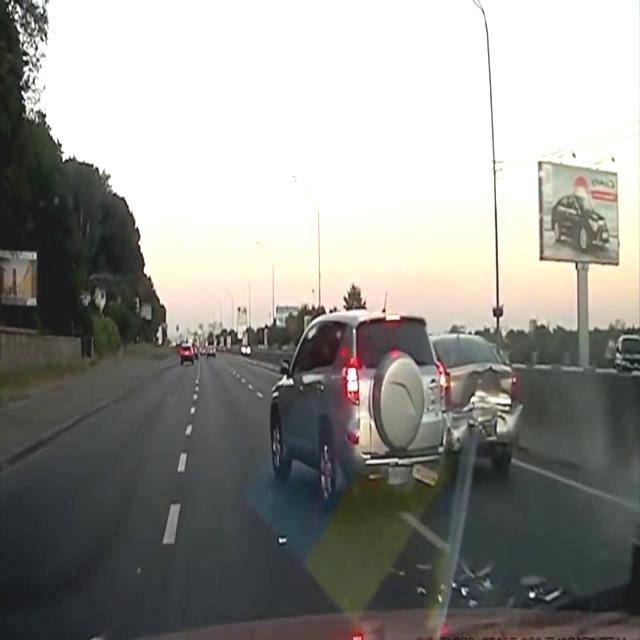accident: (265, 308, 525, 507)
non-accident: (176, 340, 216, 370)
